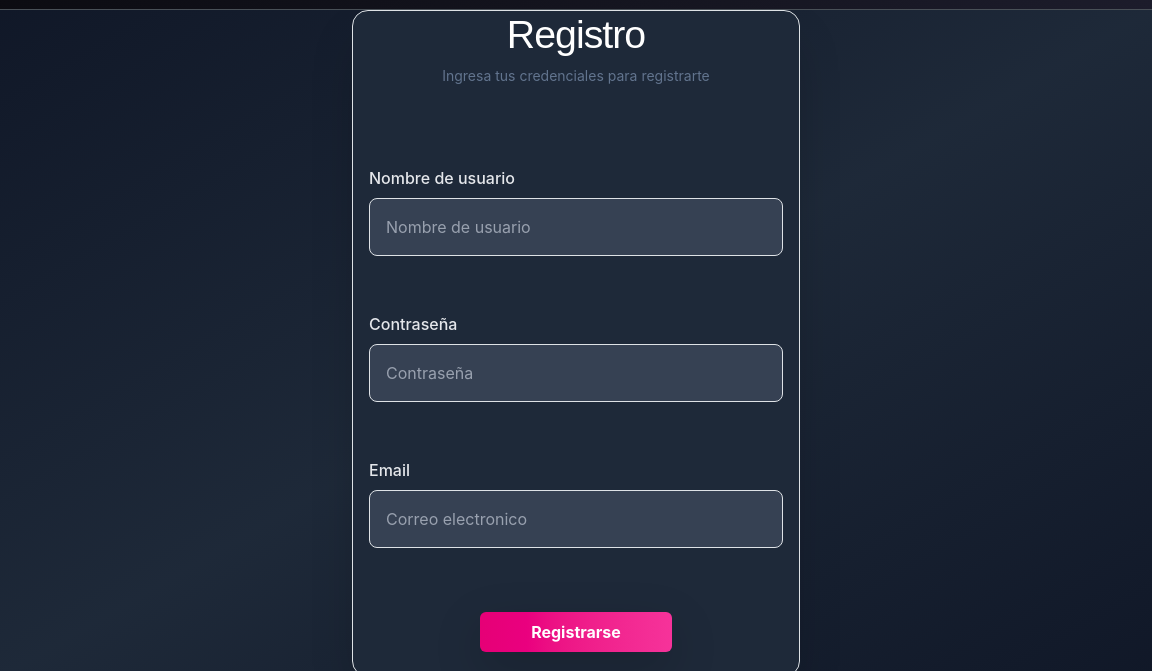
it: Registro Component › muestra errores de validacion para campos vacios
The width and height of the screenshot is (1152, 671).
(page scrolled)
Click en submit sin llenar campos
Click the button "Registrarse" at (576, 632), box x1=480 y1=612 x2=672 y2=652
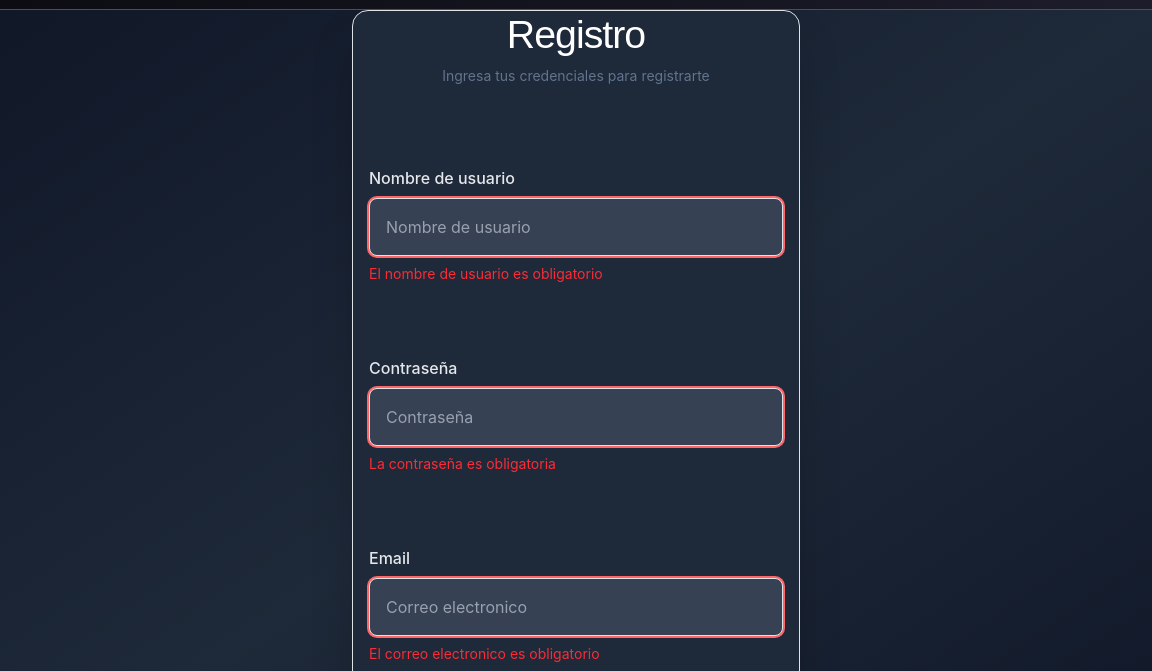
Result: the text "El nombre de usuario es obligatorio" is shown at x1=369 y1=265 x2=603 y2=282
Result: the text "La contraseña es obligatoria" is shown at x1=369 y1=455 x2=556 y2=472
Result: the text "El correo electronico es obligatorio" is shown at x1=369 y1=645 x2=600 y2=662
